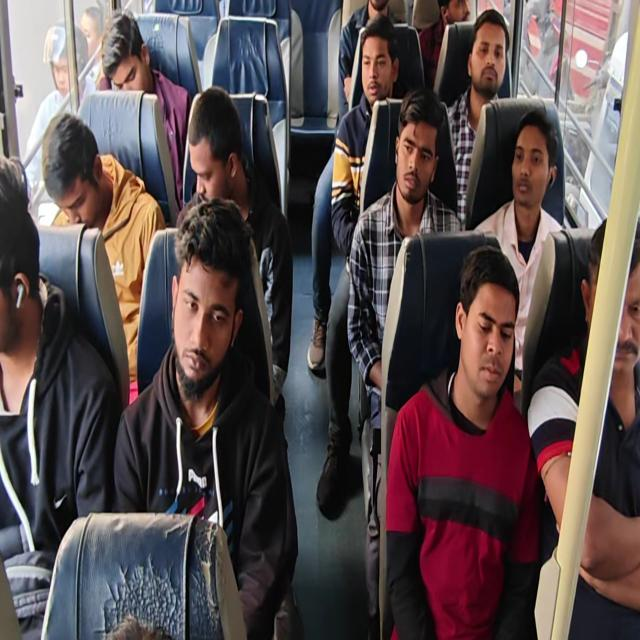person: (162, 195, 245, 399), (447, 261, 517, 408), (0, 150, 48, 363), (580, 232, 640, 383), (39, 122, 108, 228), (188, 90, 246, 207), (105, 17, 158, 104), (512, 119, 552, 214), (398, 103, 432, 203), (470, 18, 504, 90), (361, 36, 392, 104), (438, 0, 481, 37), (362, 0, 392, 20)
